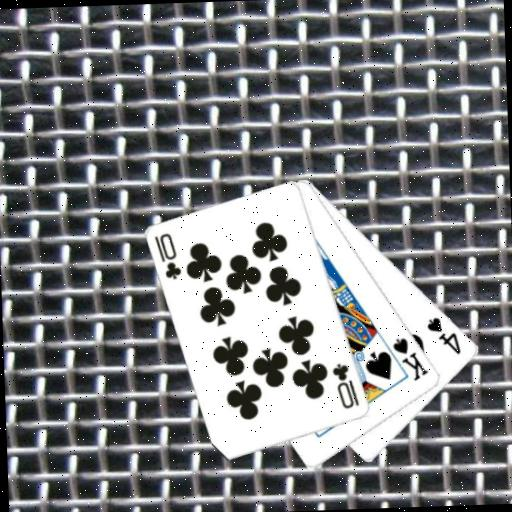10C: (151, 229, 183, 282), (329, 359, 361, 411)
4S: (424, 313, 463, 357)
KS: (389, 333, 431, 383)
